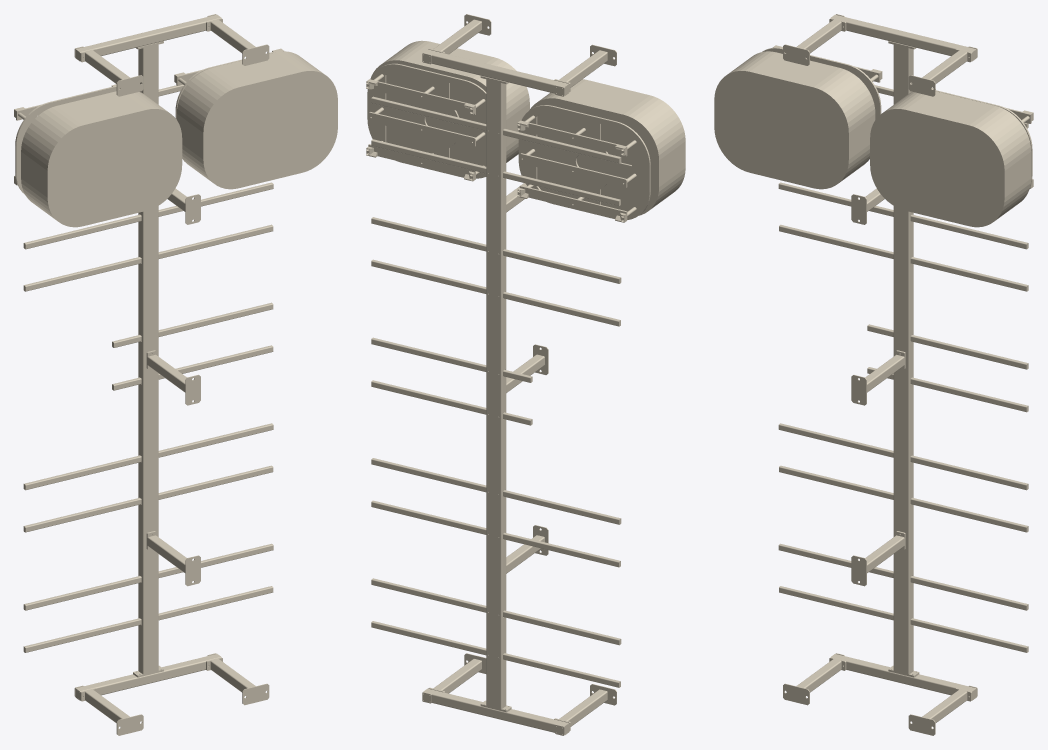
Rendered from frame.dae.
The picture shows the model from 3 angles, left to right: view 1: azimuth 30°, elevation 25°; view 2: azimuth 150°, elevation 25°; view 3: azimuth 330°, elevation 25°; orthographic projection.
Parts seen in each view (by area): view 1: 架子部分(顶升式); view 2: 架子部分(顶升式); view 3: 架子部分(顶升式).
Part boxes in pixels (x1=…): 架子部分(顶升式): x1=14, y1=14, x2=337, y2=735; 架子部分(顶升式): x1=366, y1=14, x2=685, y2=735; 架子部分(顶升式): x1=714, y1=14, x2=1033, y2=735.
Bounding box in the file's own units: 1640 × 470 × 3535.
